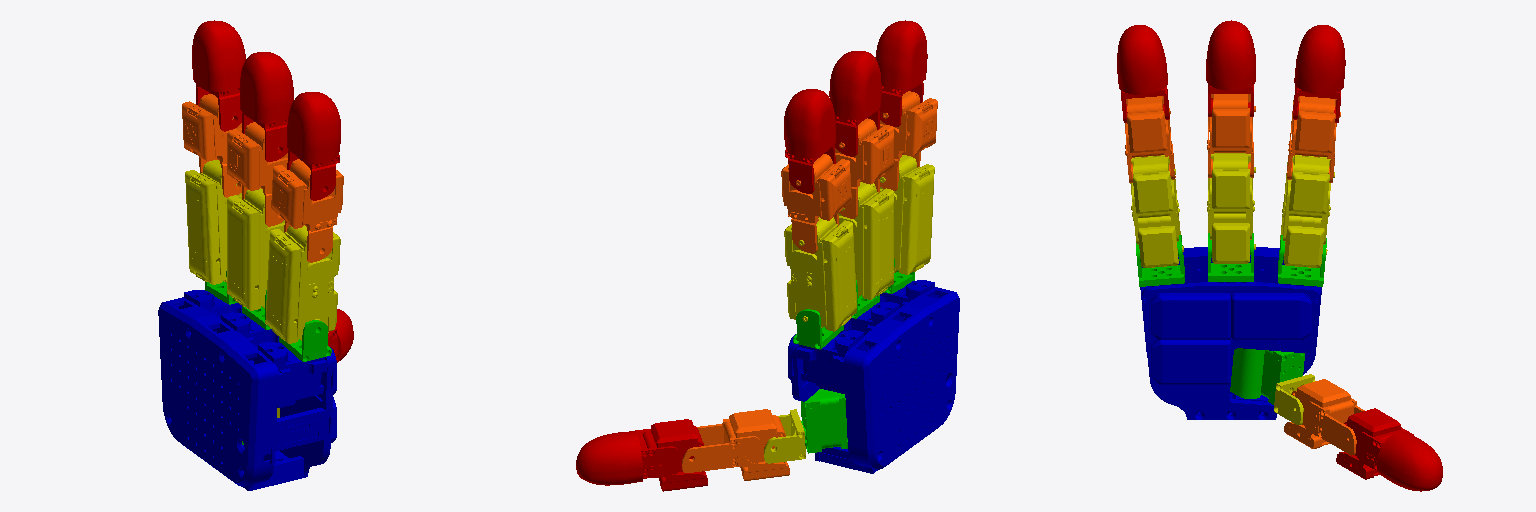
URDF robot description (xela_allegro_hand):
<?xml version="1.0" ?>


<robot name="xela_allegro_hand">

  <!-- colors -->
  <material name="blue">
    <color rgba="0.0 0.0 0.8 1.0"/>
  </material>
  <material name="green">
    <color rgba="0.0 0.8 0.0 1.0"/>
  </material>
  <material name="yellow">
    <color rgba="0.8 0.8 0.0 1.0"/>
  </material>
  <material name="orange">
    <color rgba="1.0 0.4 0.04 1.0"/>
  </material>
  <material name="red">
    <color rgba="0.8 0 0 1.0"/>
  </material>

  <link name="allegro_base_link" >
    <visual>
     <origin rpy="0 3.14159265359 1.57079632679 " xyz="-0.0265 0 -0.0964"/>
     <geometry>
       <mesh filename="package://xela_models/mesh_simplified/palm.obj" scale="0.001 0.001 0.001"/>
     </geometry>
     <material name="blue"/>
    </visual>
    <inertial>
      <mass value="0.4288"/>
      <origin rpy="0 0 0" xyz="0 0 0"/>
      <inertia ixx="2.04e-03" ixy="8.58e-06" ixz="8.58e-06" iyy="1.23e-03" iyz="0.0" izz="1.25e-03"/>
    </inertial>

    <!-- Collision geometry - copy from visual -->
    <collision>
      <origin rpy="0 3.14159265359 1.57079632679 " xyz="-0.0265 0 -0.0964"/>
      <geometry>
        <mesh filename="package://xela_models/mesh_simplified/palm.obj" scale="0.001 0.001 0.001"/>
      </geometry>
    </collision>
  </link>

  <!--FIRST FINGER-->

  <link name="allegro_link_11">
    <visual>
     <origin rpy="1.57079632679  0 -1.57079632679 " xyz="0 0 -0.0005"/>
     <geometry>
       <mesh filename="package://xela_models/mesh_simplified/finger_link_1.obj" scale="0.001 0.001 0.001"/>
     </geometry>
     <material name="green"/>
    </visual>
    <inertial>
     <mass value="0.050"/>
     <origin rpy="0 0 0" xyz="-0.000811 0.000477 0.008113"/>
     <inertia ixx="2414.056e-09" ixy="-0.383e-09" ixz="77.216e-09" iyy="1101.930e-09" iyz="-9.204e-09" izz="1979.858e-09"/>
    </inertial>

    <!-- Collision geometry - copy from visual -->
    <collision>
      <origin rpy="1.57079632679  0 -1.57079632679 " xyz="0 0 -0.0005"/>
      <geometry>
        <mesh filename="package://xela_models/mesh_simplified/finger_link_1.obj" scale="0.001 0.001 0.001"/>
      </geometry>
    </collision>
  </link>

  <joint name="allegro_joint_11" type="revolute">
    <axis xyz="0 0 1"/>
    <limit effort="15" lower="-0.51" upper="0.54" velocity="7"/>
    <parent link="allegro_base_link"/>
    <child link="allegro_link_11"/>
    <origin xyz="0 0.043773 -0.002249" rpy="-0.0872665 0 0" />
    <dynamics damping="3" friction="10"/>
  </joint>

  <link name="allegro_link_12">
    <visual>
     <origin rpy="0 1.57079632679  0" xyz="0 0 0"/>
     <geometry>
       <mesh filename="package://xela_models/mesh_simplified/finger_link_2.obj" scale="0.001 0.001 0.001"/>
     </geometry>
     <material name="yellow"/>
    </visual>

    <inertial>
      <mass value="0.180"/>
      <origin rpy="0 0 0" xyz="-0.00356 0.000033 0.027011"/>
     <inertia ixx="33463.517e-09" ixy="-137.897e-09" ixz="-57.882e-09" iyy="37612.493e-09" iyz="-46.694e-09" izz="13497.383e-09"/>
    </inertial>

    <!-- Collision geometry - copy from visual -->
    <collision>
      <origin rpy="0 1.57079632679  0" xyz="0 0 0"/>
      <geometry>
        <mesh filename="package://xela_models/mesh_simplified/finger_link_2.obj" scale="0.001 0.001 0.001"/>
      </geometry>
    </collision>
  </link>

 <joint name="allegro_joint_12" type="revolute">
    <axis xyz="0 1 0"/>
    <limit effort="15" lower="-0.25" upper="1.57" velocity="7"/>
    <parent link="allegro_link_11"/>
    <child link="allegro_link_12"/>
    <origin xyz="0 0 0.0192" rpy="0 0 0" />
    <dynamics damping="3" friction="5"/>
  </joint>


  <link name="allegro_link_13">
    <visual>
     <origin rpy="0 -1.57079632679  0" xyz="0 0 0.0425"/>
     <geometry>
       <mesh filename="package://xela_models/mesh_simplified/finger_link_3.obj" scale="0.001 0.001 0.001"/>
     </geometry>
     <material name="orange"/>
    </visual>

    <inertial>
      <mass value="0.080"/>
      <origin rpy="0 0 0" xyz="-0.002973 0.000065 0.029809"/>
      <inertia ixx="9811.638e-09" ixy="-23.174e-09" ixz="497.074e-09" iyy="11210.635e-09" iyz="-42.915e-09" izz="7480.75e-09"/>
    </inertial>

    <!-- Collision geometry - copy from visual -->
    <collision>
      <origin rpy="0 -1.57079632679  0" xyz="0 0 0.0425"/>
      <geometry>
        <mesh filename="package://xela_models/mesh_simplified/finger_link_3.obj" scale="0.001 0.001 0.001"/>
      </geometry>
    </collision>

  </link>

  <joint name="allegro_joint_13" type="revolute">
    <axis xyz="0 1 0"/>
    <limit effort="15" lower="-0.22" upper="1.47" velocity="7"/>
    <parent link="allegro_link_12"/>
    <child link="allegro_link_13"/>
    <origin xyz="0 0 0.054" rpy="0 0 0" />
    <dynamics damping="8" friction="10"/>
  </joint>

  <link name="allegro_link_14">
    <visual>
     <origin rpy="1.57079632679 0 -1.57079632679" xyz="0 0 0.0154"/>
     <geometry>
       <mesh filename="package://xela_models/mesh_simplified/finger_link_4.obj" scale="0.001 0.001 0.001"/>
     </geometry>
     <material name="red"/>
    </visual>

    <inertial>
     <mass value="0.080"/>
     <origin rpy="0 0 0" xyz="-0.000809 -0.00003 0.033361"/>
     <inertia ixx="7780.076e-09" ixy="-1.409e-09" ixz="170.689e-09" iyy="7260.287e-09" iyz="18.558e-09" izz="3969.241e-09"/>
    </inertial>

    <!-- Collision geometry - copy from visual -->
    <collision>
      <origin rpy="1.57079632679 0 -1.57079632679" xyz="0 0 0.0154"/>
      <geometry>
        <mesh filename="package://xela_models/mesh_simplified/finger_link_4.obj" scale="0.001 0.001 0.001"/>
      </geometry>
    </collision>
  </link>

  <joint name="allegro_joint_14" type="revolute">
    <axis xyz="0 1 0"/>
    <limit effort="15" lower="-0.22" upper="1.57" velocity="7"/>
    <parent link="allegro_link_13"/>
    <child link="allegro_link_14"/>
    <origin xyz="0 0 0.0424" rpy="0 0 0" />
    <dynamics damping="10" friction="12"/>
  </joint>

  <link name="allegro_link_14_tip">
  </link>

  <joint name="allegro_joint_14_tip" type="fixed">
    <parent link="allegro_link_14"/>
    <child link="allegro_link_14_tip"/>
    <origin xyz="-0.012601 0 0.020745" rpy="0 0 0" />
    <!--origin xyz="0.013341 0 0.043834" rpy="0 0 0" /-->
  </joint>

  <!--MIDDLE FINGER-->

  <link name="allegro_link_21" >
    <visual>
     <origin rpy="1.57079632679  0 -1.57079632679 " xyz="0 0 -0.0005"/>
     <geometry>
       <mesh filename="package://xela_models/mesh_simplified/finger_link_1.obj" scale="0.001 0.001 0.001"/>
     </geometry>
     <material name="green"/>
    </visual>

    <inertial>
     <mass value="0.050"/>
     <origin rpy="0 0 0" xyz="-0.000811 0.000477 0.008113"/>
     <inertia ixx="2414.056e-09" ixy="-0.383e-09" ixz="77.216e-09" iyy="1101.930e-09" iyz="-9.204e-09" izz="1979.858e-09"/>
    </inertial>

    <!-- Collision geometry - copy from visual -->
    <collision>
      <origin rpy="1.57079632679  0 -1.57079632679 " xyz="0 0 -0.0005"/>
      <geometry>
        <mesh filename="package://xela_models/mesh_simplified/finger_link_1.obj" scale="0.001 0.001 0.001"/>
      </geometry>
    </collision>
  </link>

  <joint name="allegro_joint_21" type="revolute">
    <axis xyz="0 0 1"/>
    <limit effort="15" lower="-0.52" upper="0.54" velocity="7"/>
    <parent link="allegro_base_link"/>
    <child link="allegro_link_21"/>
    <origin xyz="0 0 0" rpy="0 0 0" />
    <dynamics damping="3" friction="10"/>
  </joint>
 
  <link name="allegro_link_22" >

    <visual>
     <origin rpy="0 1.57079632679  0" xyz="0 0 0"/>
     <geometry>
       <mesh filename="package://xela_models/mesh_simplified/finger_link_2.obj" scale="0.001 0.001 0.001"/>
     </geometry>
     <material name="yellow"/>
    </visual>

    <inertial>
     <mass value="0.180"/>
     <origin rpy="0 0 0" xyz="-0.00356 0.000033 0.027011"/>
     <inertia ixx="33463.517e-09" ixy="-137.897e-09" ixz="-57.882e-09" iyy="37612.493e-09" iyz="-46.694e-09" izz="13497.383e-09"/>
    </inertial>

    <!-- Collision geometry - copy from visual -->
    <collision>
      <origin rpy="0 1.57079632679  0" xyz="0 0 0"/>
      <geometry>
        <mesh filename="package://xela_models/mesh_simplified/finger_link_2.obj" scale="0.001 0.001 0.001"/>
      </geometry>
    </collision>

  </link>

  <joint name="allegro_joint_22" type="revolute">
    <axis xyz="0 1 0"/>
    <limit effort="15" lower="-0.23" upper="1.57" velocity="7"/>
    <parent link="allegro_link_21"/>
    <child link="allegro_link_22"/>
    <origin xyz="0 0 0.0192" rpy="0 0 0" />
    <dynamics damping="3" friction="5"/>
  </joint>
  
  <link name="allegro_link_23" >
    <visual>
     <origin rpy="0 -1.57079632679  0" xyz="0 0 0.0425"/>
     <geometry>
       <mesh filename="package://xela_models/mesh_simplified/finger_link_3.obj" scale="0.001 0.001 0.001"/>
     </geometry>
     <material name="orange"/>
    </visual>

    <inertial>
     <mass value="0.080"/>
     <origin rpy="0 0 0" xyz="-0.002973 0.000065 0.029809"/>
     <inertia ixx="9811.638e-09" ixy="-23.174e-09" ixz="497.074e-09" iyy="11210.635e-09" iyz="-42.915e-09" izz="7480.75e-09"/>
    </inertial>

    <!-- Collision geometry - copy from visual -->
    <collision>
      <origin rpy="0 -1.57079632679  0" xyz="0 0 0.0425"/>
      <geometry>
        <mesh filename="package://xela_models/mesh_simplified/finger_link_3.obj" scale="0.001 0.001 0.001"/>
      </geometry>
    </collision>
  </link>

  <joint name="allegro_joint_23" type="revolute">
    <axis xyz="0 1 0"/>
    <limit effort="15" lower="-0.22" upper="1.47" velocity="7"/>
    <parent link="allegro_link_22"/>
    <child link="allegro_link_23"/>
    <origin xyz="0 0 0.054" rpy="0 0 0" />
    <dynamics damping="8" friction="10"/>
  </joint>
  
  <link name="allegro_link_24" >

    <visual>
     <origin rpy="1.57079632679 0 -1.57079632679" xyz="0 0 0.0154"/>
     <geometry>
       <mesh filename="package://xela_models/mesh_simplified/finger_link_4.obj" scale="0.001 0.001 0.001"/>
     </geometry>
     <material name="red"/>
    </visual>

    <inertial>
     <mass value="0.080"/>
     <origin rpy="0 0 0" xyz="-0.000809 -0.00003 0.033361"/>
     <inertia ixx="7780.076e-09" ixy="-1.409e-09" ixz="170.689e-09" iyy="7260.287e-09" iyz="18.558e-09" izz="3969.241e-09"/>
    </inertial>

    <!-- Collision geometry - copy from visual -->
    <collision>
      <origin rpy="1.57079632679 0 -1.57079632679" xyz="0 0 0.0154"/>
      <geometry>
        <mesh filename="package://xela_models/mesh_simplified/finger_link_4.obj" scale="0.001 0.001 0.001"/>
      </geometry>
    </collision>

  </link>

  <joint name="allegro_joint_24" type="revolute">
    <axis xyz="0 1 0"/>
    <limit effort="15" lower="-0.24" upper="1.57" velocity="7"/>
    <parent link="allegro_link_23"/>
    <child link="allegro_link_24"/>
    <origin xyz="0 0 0.0424" rpy="0 0 0" />
    <dynamics damping="10" friction="12"/>
  </joint>

  <link name="allegro_link_24_tip">
  </link>

  <joint name="allegro_joint_24_tip" type="fixed">
    <parent link="allegro_link_24"/>
    <child link="allegro_link_24_tip"/>
    <origin xyz="-0.012601 0 0.020745" rpy="0 0 0" />
    <!--origin xyz="0.013341 0 0.043834" rpy="0 0 0" /-->
  </joint>

    <!--LITTLE FINGER-->
  <link name="allegro_link_31" >

    <visual>
     <origin rpy="1.57079632679  0 -1.57079632679 " xyz="0 0 -0.0005"/>
     <geometry>
       <mesh filename="package://xela_models/mesh_simplified/finger_link_1.obj" scale="0.001 0.001 0.001"/>
     </geometry>
     <material name="green"/>
    </visual>

    <inertial>
     <mass value="0.050"/>
     <origin rpy="0 0 0" xyz="-0.000811 0.000477 0.008113"/>
     <inertia ixx="2414.056e-09" ixy="-0.383e-09" ixz="77.216e-09" iyy="1101.930e-09" iyz="-9.204e-09" izz="1979.858e-09"/>
    </inertial>

    <!-- Collision geometry - copy from visual -->
    <collision>
      <origin rpy="1.57079632679  0 -1.57079632679 " xyz="0 0 -0.0005"/>
      <geometry>
        <mesh filename="package://xela_models/mesh_simplified/finger_link_1.obj" scale="0.001 0.001 0.001"/>
      </geometry>
    </collision>

  </link>

  <joint name="allegro_joint_31" type="revolute">
    <axis xyz="0 0 1"/>
    <limit effort="15" lower="-0.48" upper="0.54" velocity="7"/>
    <parent link="allegro_base_link"/>
    <child link="allegro_link_31"/>
    <origin xyz="0 -0.043773 -0.002249" rpy="0.0872665 0 0" />
    <dynamics damping="3" friction="10"/>
  </joint>
  
  <link name="allegro_link_32" >

    <visual>
     <origin rpy="0 1.57079632679  0" xyz="0 0 0"/>
     <geometry>
       <mesh filename="package://xela_models/mesh_simplified/finger_link_2.obj" scale="0.001 0.001 0.001"/>
     </geometry>
     <material name="yellow"/>
    </visual>

    <inertial>
     <mass value="0.180"/>
     <origin rpy="0 0 0" xyz="-0.00356 0.000033 0.027011"/>
     <inertia ixx="33463.517e-09" ixy="-137.897e-09" ixz="-57.882e-09" iyy="37612.493e-09" iyz="-46.694e-09" izz="13497.383e-09"/>
    </inertial>

    <!-- Collision geometry - copy from visual -->
    <collision>
      <origin rpy="0 1.57079632679  0" xyz="0 0 0"/>
      <geometry>
        <mesh filename="package://xela_models/mesh_simplified/finger_link_2.obj" scale="0.001 0.001 0.001"/>
      </geometry>
    </collision>
  </link>

  <joint name="allegro_joint_32" type="revolute">
    <axis xyz="0 1 0"/>
    <limit effort="15" lower="-0.24" upper="1.57" velocity="7"/>
    <parent link="allegro_link_31"/>
    <child link="allegro_link_32"/>
    <origin xyz="0 0 0.0192" rpy="0 0 0" />
    <dynamics damping="3" friction="5"/>
  </joint>
 
  <link name="allegro_link_33">

    <visual>
     <origin rpy="0 -1.57079632679  0" xyz="0 0 0.0425"/>
     <geometry>
       <mesh filename="package://xela_models/mesh_simplified/finger_link_3.obj" scale="0.001 0.001 0.001"/>
     </geometry>
     <material name="orange"/>
    </visual>

    <inertial>
     <mass value="0.080"/>
     <origin rpy="0 0 0" xyz="-0.002973 0.000065 0.029809"/>
     <inertia ixx="9811.638e-09" ixy="-23.174e-09" ixz="497.074e-09" iyy="11210.635e-09" iyz="-42.915e-09" izz="7480.75e-09"/>
    </inertial>

    <!-- Collision geometry - copy from visual -->
    <collision>
      <origin rpy="0 -1.57079632679  0" xyz="0 0 0.0425"/>
      <geometry>
        <mesh filename="package://xela_models/mesh_simplified/finger_link_3.obj" scale="0.001 0.001 0.001"/>
      </geometry>
    </collision>

  </link>

 <joint name="allegro_joint_33" type="revolute">
    <axis xyz="0 1 0"/>
    <limit effort="15" lower="-0.23" upper="1.47" velocity="7"/>
    <parent link="allegro_link_32"/>
    <child link="allegro_link_33"/>
    <origin xyz="0 0 0.054" rpy="0 0 0" />
    <dynamics damping="8" friction="10"/>
  </joint>
  
  <link name="allegro_link_34" >

    <visual>
     <origin rpy="1.57079632679 0 -1.57079632679" xyz="0 0 0.0154"/>
     <geometry>
       <mesh filename="package://xela_models/mesh_simplified/finger_link_4.obj" scale="0.001 0.001 0.001"/>
     </geometry>
    <material name="red"/>
    </visual>

    <inertial>
     <mass value="0.080"/>
     <origin rpy="0 0 0" xyz="-0.000809 -0.00003 0.033361"/>
     <inertia ixx="7780.076e-09" ixy="-1.409e-09" ixz="170.689e-09" iyy="7260.287e-09" iyz="18.558e-09" izz="3969.241e-09"/>
    </inertial>

    <!-- Collision geometry - copy from visual -->
    <collision>
      <origin rpy="1.57079632679 0 -1.57079632679" xyz="0 0 0.0154"/>
      <geometry>
        <mesh filename="package://xela_models/mesh_simplified/finger_link_4.obj" scale="0.001 0.001 0.001"/>
      </geometry>
    </collision>

  </link>

  <joint name="allegro_joint_34" type="revolute">
    <axis xyz="0 1 0"/>
    <limit effort="15" lower="-0.25" upper="1.57" velocity="7"/>
    <parent link="allegro_link_33"/>
    <child link="allegro_link_34"/>
    <origin xyz="0 0 0.0424" rpy="0 0 0" />
    <dynamics damping="10" friction="12"/>
  </joint>

  <link name="allegro_link_34_tip">
  </link>

  <joint name="allegro_joint_34_tip" type="fixed">
    <parent link="allegro_link_34"/>
    <child link="allegro_link_34_tip"/>
    <origin xyz="-0.012601 0 0.020745" rpy="0 0 0" />
    <!--origin xyz="0.013341 0 0.043834" rpy="0 0 0" /-->
  </joint>

   <!--THUMB-->
  <link name="allegro_link_41" >

    <visual>
     <origin rpy="3.14159265359 0 -1.57079632679" xyz="0.0446 0 0"/>
     <geometry>
       <mesh filename="package://xela_models/mesh_simplified/thumb_link_1.obj" scale="0.001 0.001 0.001"/>
     </geometry>
     <material name="green"/>
    </visual>

    <inertial>
     <mass value="0.0680"/>
     <origin rpy="0 0 0" xyz="0.009297 0.008825 0.015128"/>
     <inertia ixx="14941.462e-09" ixy="674.976e-09" ixz="-305.859e-09" iyy="18499.069e-09" iyz="1170.808e-09" izz="14309.75e-09"/>
    </inertial>

    <!-- Collision geometry - copy from visual -->
    <collision>
      <origin rpy="3.14159265359 0 -1.57079632679" xyz="0.0446 0 0"/>
      <geometry>
        <mesh filename="package://xela_models/mesh_simplified/thumb_link_1.obj" scale="0.001 0.001 0.001"/>
      </geometry>
    </collision>

  </link>

  <joint name="allegro_joint_41" type="revolute">
    <axis xyz="-1 0 0"/>
    <limit effort="15" lower="0.27" upper="1.47" velocity="7"/>
    <parent link="allegro_base_link"/>
    <child link="allegro_link_41"/>
    <origin xyz="-0.0182 0.016958 -0.073288" rpy="-3.14159 -1.48353 1.5708" />
    <dynamics damping="3" friction="10"/>
  </joint>

  <link name="allegro_link_42" >
    <visual>
     <origin rpy="1.57079632679 0 -1.57079632679" xyz="0 0 -0.0005"/>
     <geometry>
       <mesh filename="package://xela_models/mesh_simplified/thumb_link_2.obj" scale="0.001 0.001 0.001"/>
     </geometry>
     <material name="yellow"/>
    </visual>

    <inertial>
     <mass value="0.015"/>
     <origin rpy="0 0 0" xyz="-0.000477 0.008113 0.000811"/>
     <inertia ixx="1101.930e-09" ixy="0.383e-09" ixz="9.204e-09" iyy="2414.056e-09" iyz="77.216e-09" izz="1979.858e-09"/>
    </inertial>

    <!-- Collision geometry - copy from visual -->
    <collision>
      <origin rpy="1.57079632679 0 -1.57079632679" xyz="0 0 -0.0005"/>
      <geometry>
        <mesh filename="package://xela_models/mesh_simplified/thumb_link_2.obj" scale="0.001 0.001 0.001"/>
      </geometry>
    </collision>

  </link> 

  <joint name="allegro_joint_42" type="revolute">
    <axis xyz="0 0 1"/>
    <limit effort="15" lower="-0.31" upper="1.1" velocity="7"/>
    <parent link="allegro_link_41"/>
    <child link="allegro_link_42"/>
    <origin xyz="0 0.005 0.0402" rpy="0 0 0" />
    <dynamics damping="3" friction="5"/>
  </joint>
  
  <link name="allegro_link_43" >
  <visual>
     <origin rpy="-1.57079632679 1.57079632679 -1.57079632679" xyz="0 0 0"/>
     <geometry>
       <mesh filename="package://xela_models/mesh_simplified/thumb_link_3.obj" scale="0.001 0.001 0.001"/>
     </geometry>
     <material name="orange"/>
    </visual>

    <inertial>
     <mass value="0.095"/>
     <origin rpy="0 0 0" xyz="-0.003196 0.000188 0.013453"/>
     <inertia ixx="12096.373e-09" ixy="-17.650e-09" ixz="-979.939e-09" iyy="13369.697e-09" iyz="-80.073e-09" izz="7544.397e-09"/>
    </inertial>

    <!-- Collision geometry - copy from visual -->
    <collision>
      <origin rpy="-1.57079632679 1.57079632679 -1.57079632679" xyz="0 0 0"/>
      <geometry>
        <mesh filename="package://xela_models/mesh_simplified/thumb_link_3.obj" scale="0.001 0.001 0.001"/>
      </geometry>
    </collision>

  </link> 

  <joint name="allegro_joint_43" type="revolute">
    <axis xyz="0 1 0"/>
    <limit effort="15" lower="-0.21" upper="1.57" velocity="7"/>
    <parent link="allegro_link_42"/>
    <child link="allegro_link_43"/>
    <origin xyz="0 0 0.0192" rpy="0 0 0" />
    <dynamics damping="3" friction="10"/>
  </joint>
  
  <link name="allegro_link_44" >

  <visual>
     <origin rpy="-1.57079632679 1.57079632679 -1.57079632679" xyz="0 0 0"/>
     <geometry>
       <mesh filename="package://xela_models/mesh_simplified/thumb_link_4.obj" scale="0.001 0.001 0.001"/>
     </geometry>
     <material name="red"/>
    </visual>

    <inertial>
     <mass value="0.110"/>
     <origin rpy="0 0 0" xyz="0.00005 -0.001611 0.035166"/>
     <inertia ixx="33947.965e-09" ixy="-0.538e-09" ixz="-142.573e-09" iyy="33136.228e-09" iyz="-1585.247e-09" izz="8796.735e-09"/>
    </inertial>

    <!-- Collision geometry - copy from visual -->
    <collision>
      <origin rpy="-1.57079632679 1.57079632679 -1.57079632679" xyz="0 0 0"/>
      <geometry>
        <mesh filename="package://xela_models/mesh_simplified/thumb_link_4.obj" scale="0.001 0.001 0.001"/>
      </geometry>
    </collision>
  </link> 
  
  <joint name="allegro_joint_44" type="revolute">
    <axis xyz="0 1 0"/>
    <limit effort="15" lower="-0.22" upper="1.76" velocity="7"/>
    <parent link="allegro_link_43"/>
    <child link="allegro_link_44"/>
    <origin xyz="0 0 0.0514" rpy="0 0 0" />
    <dynamics damping="3" friction="12"/>
  </joint>
  
  <link name="allegro_link_44_tip">
  </link>
  <joint name="allegro_joint_44_tip" type="fixed">
    <parent link="allegro_link_44"/>
    <child link="allegro_link_44_tip"/>
    <origin xyz="-0.01392 -0.0001 0.0313" rpy="0 0 0" />
    <!--origin xyz="0.013474 0 0.055469" rpy="0 0 0" /-->
  </joint>
</robot>
 

--- What the picture shows (computed from the rendered views, not written in the file) ---
3 views of the same robot in one strip: view 1: azimuth 30°, elevation 25°; view 2: azimuth 150°, elevation 25°; view 3: azimuth 270°, elevation 25° (orthographic).
Robot: xela_allegro_hand — 21 links, 20 joints (16 revolute, 4 fixed); root link allegro_base_link; default pose: all joints at 0 but 1 set to mid-range because 0 is outside their limits (allegro_joint_41 = 0.87).
Links seen in each view (by area): view 1: allegro_base_link, allegro_link_32, allegro_link_22, allegro_link_12, allegro_link_34, allegro_link_24, allegro_link_14, allegro_link_33, allegro_link_23, allegro_link_13, allegro_link_31, allegro_link_44; view 2: allegro_base_link, allegro_link_44, allegro_link_12, allegro_link_43, allegro_link_22, allegro_link_32, allegro_link_14, allegro_link_24, allegro_link_13, allegro_link_34, allegro_link_23, allegro_link_33 (+3 smaller); view 3: allegro_base_link, allegro_link_44, allegro_link_12, allegro_link_32, allegro_link_22, allegro_link_43, allegro_link_14, allegro_link_34, allegro_link_24, allegro_link_41, allegro_link_33, allegro_link_13 (+5 smaller).
Boxes of the visible links, x1,y1,x2,y2 form: allegro_base_link: (158, 290, 336, 490); allegro_link_32: (265, 225, 340, 343); allegro_link_22: (227, 188, 284, 310); allegro_link_12: (185, 160, 241, 284); allegro_link_34: (287, 92, 340, 200); allegro_link_24: (240, 52, 293, 161); allegro_link_14: (192, 20, 245, 131); allegro_link_33: (271, 159, 343, 262); allegro_link_23: (227, 122, 287, 226); allegro_link_13: (182, 94, 241, 197); allegro_link_31: (279, 320, 331, 361); allegro_link_44: (328, 309, 353, 362); allegro_base_link: (788, 280, 959, 473); allegro_link_44: (576, 419, 707, 491); allegro_link_12: (784, 217, 856, 331); allegro_link_43: (682, 409, 789, 480); allegro_link_22: (838, 182, 893, 299); allegro_link_32: (880, 155, 934, 274); allegro_link_14: (784, 89, 835, 193); allegro_link_24: (829, 51, 881, 156); allegro_link_13: (781, 154, 851, 253); allegro_link_34: (875, 20, 927, 126); allegro_link_23: (835, 118, 893, 218); allegro_link_33: (880, 91, 937, 190); allegro_base_link: (1140, 247, 1321, 419); allegro_link_44: (1336, 408, 1442, 491); allegro_link_12: (1280, 155, 1334, 267); allegro_link_32: (1130, 155, 1183, 267); allegro_link_22: (1207, 153, 1255, 263); allegro_link_43: (1284, 379, 1364, 455); allegro_link_14: (1293, 25, 1345, 122); allegro_link_34: (1117, 25, 1169, 122); allegro_link_24: (1206, 20, 1255, 116); allegro_link_41: (1230, 348, 1304, 404); allegro_link_33: (1125, 96, 1175, 182); allegro_link_13: (1287, 96, 1340, 182).
Size in the robot's own frame: 0.17 by 0.2064 by 0.2773 metres.
Meshes: 9 distinct files referenced, 17 mesh visuals loaded (9 OBJ).
